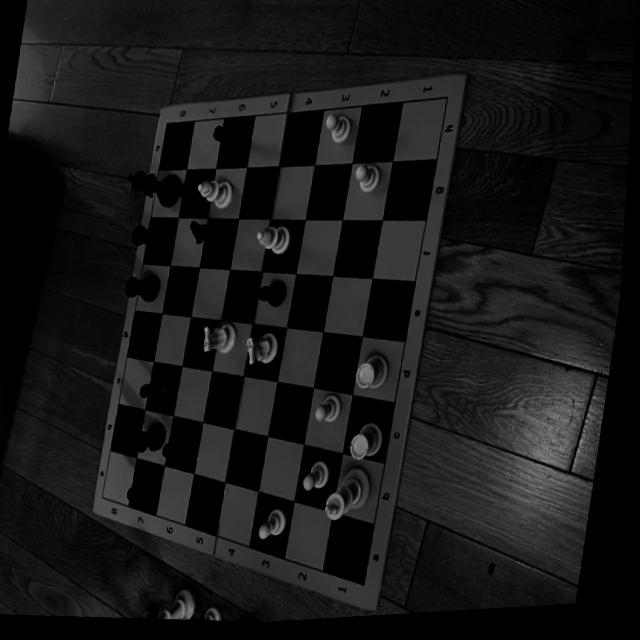chess-table-corners: (441, 93, 459, 116), (366, 578, 382, 600), (161, 118, 175, 140), (102, 492, 114, 512)
